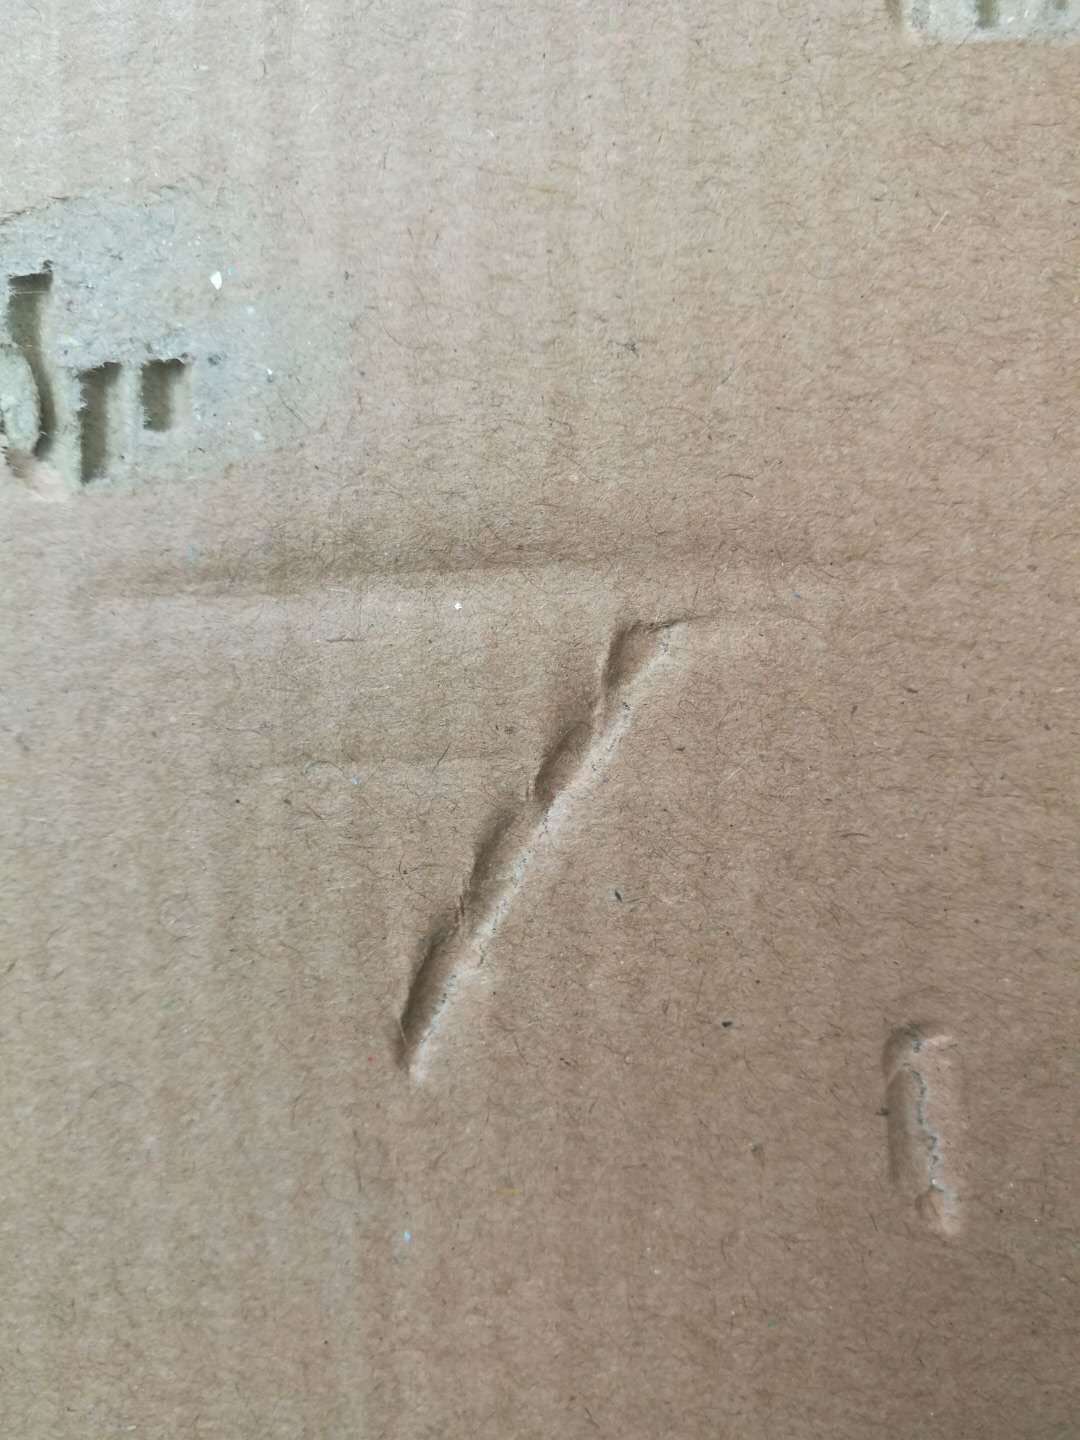defect: (197, 592, 795, 1099), (5, 125, 408, 541), (71, 518, 957, 652), (835, 984, 1006, 1267), (849, 2, 1079, 70)
